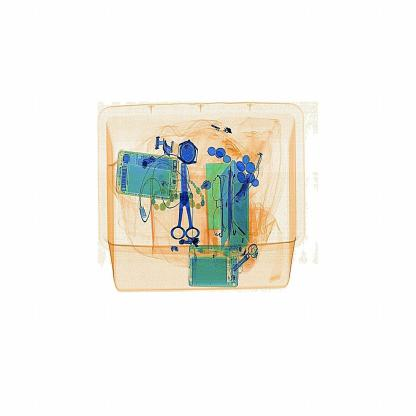gun: (164, 158, 199, 248)
